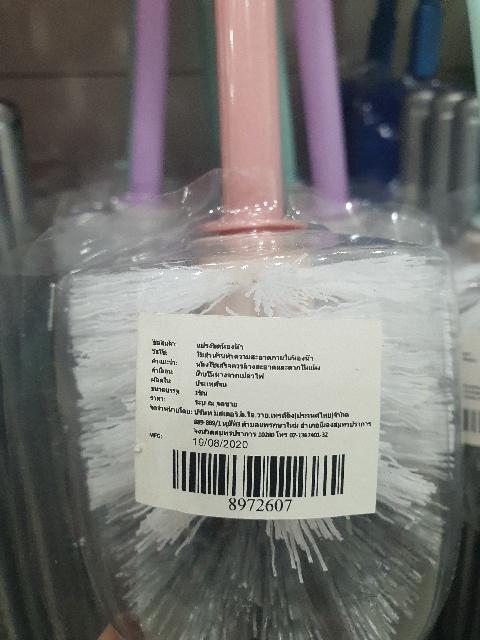Barcode: (163, 443, 350, 511)
